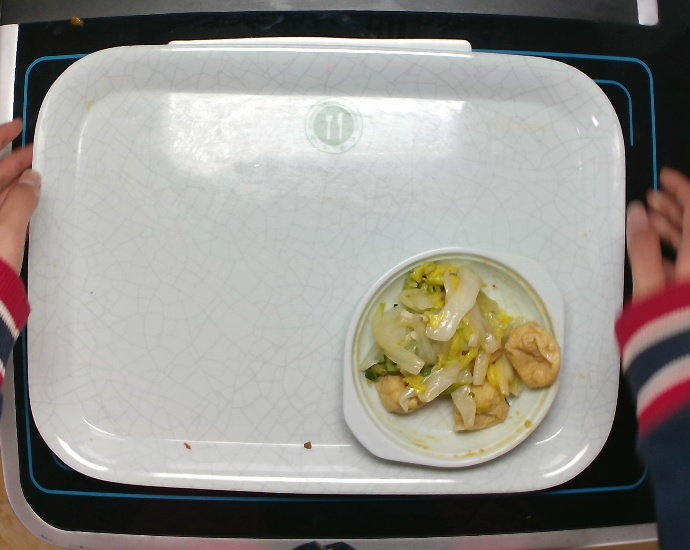JYsf-Shuang_Er_Pan: (335, 239, 571, 475)
